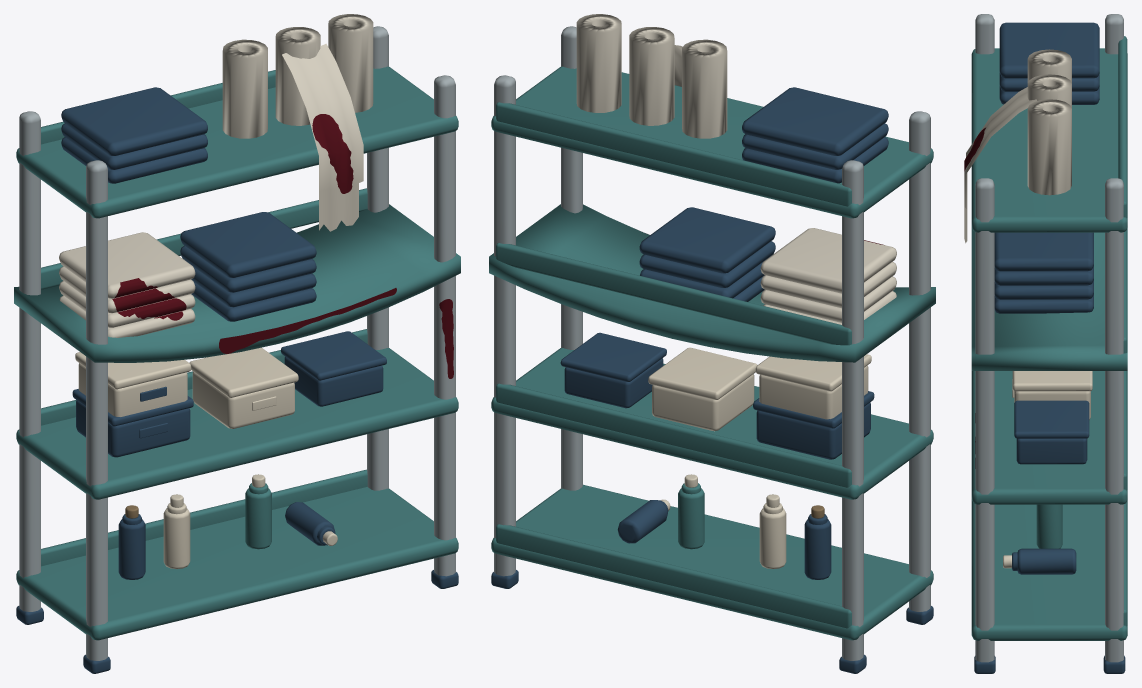
Rendered from supply_shelf.glb.
The picture shows the model from 3 angles, left to right: view 1: azimuth 30°, elevation 25°; view 2: azimuth 150°, elevation 25°; view 3: azimuth 270°, elevation 25°; orthographic projection. The views are drawn at different scales.
Visible parts, largest first — view 1: OB_UtilitySupplyShelf_01_Static; view 2: OB_UtilitySupplyShelf_01_Static; view 3: OB_UtilitySupplyShelf_01_Static.
Boxes of the visible parts, x1=… form: OB_UtilitySupplyShelf_01_Static: x1=14, y1=14, x2=460, y2=673; OB_UtilitySupplyShelf_01_Static: x1=489, y1=14, x2=935, y2=673; OB_UtilitySupplyShelf_01_Static: x1=964, y1=14, x2=1127, y2=673.
Size of the model in its own units: 1.39 by 2 by 0.5556.
